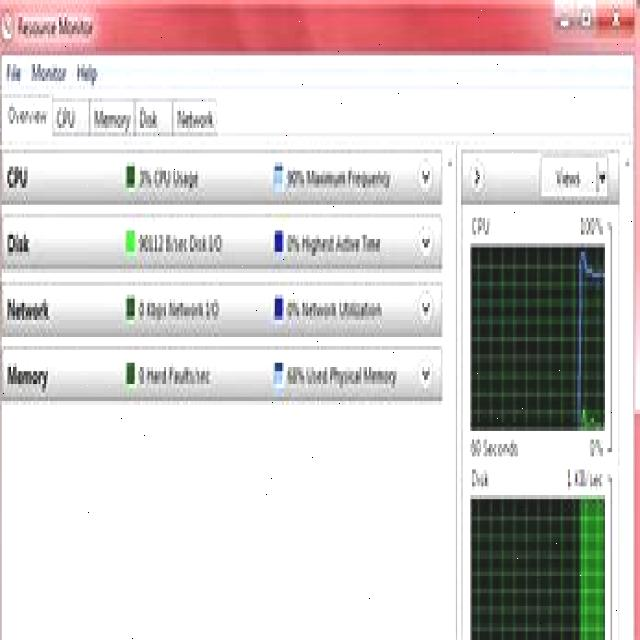button: (593, 0, 634, 38), (554, 0, 575, 47), (578, 1, 594, 43)
dropdownMenu: (0, 209, 441, 273), (0, 273, 441, 337), (0, 344, 443, 405), (0, 150, 443, 208), (538, 151, 608, 200), (458, 144, 489, 198)
icon: (0, 0, 15, 43)
label: (17, 6, 97, 44), (468, 432, 523, 462), (563, 462, 605, 489), (577, 206, 606, 237), (468, 206, 494, 240), (470, 465, 493, 492), (586, 434, 606, 461)
menu: (0, 47, 631, 85)
slider: (617, 141, 636, 640), (440, 136, 457, 640)
tabControl: (0, 92, 220, 141)
